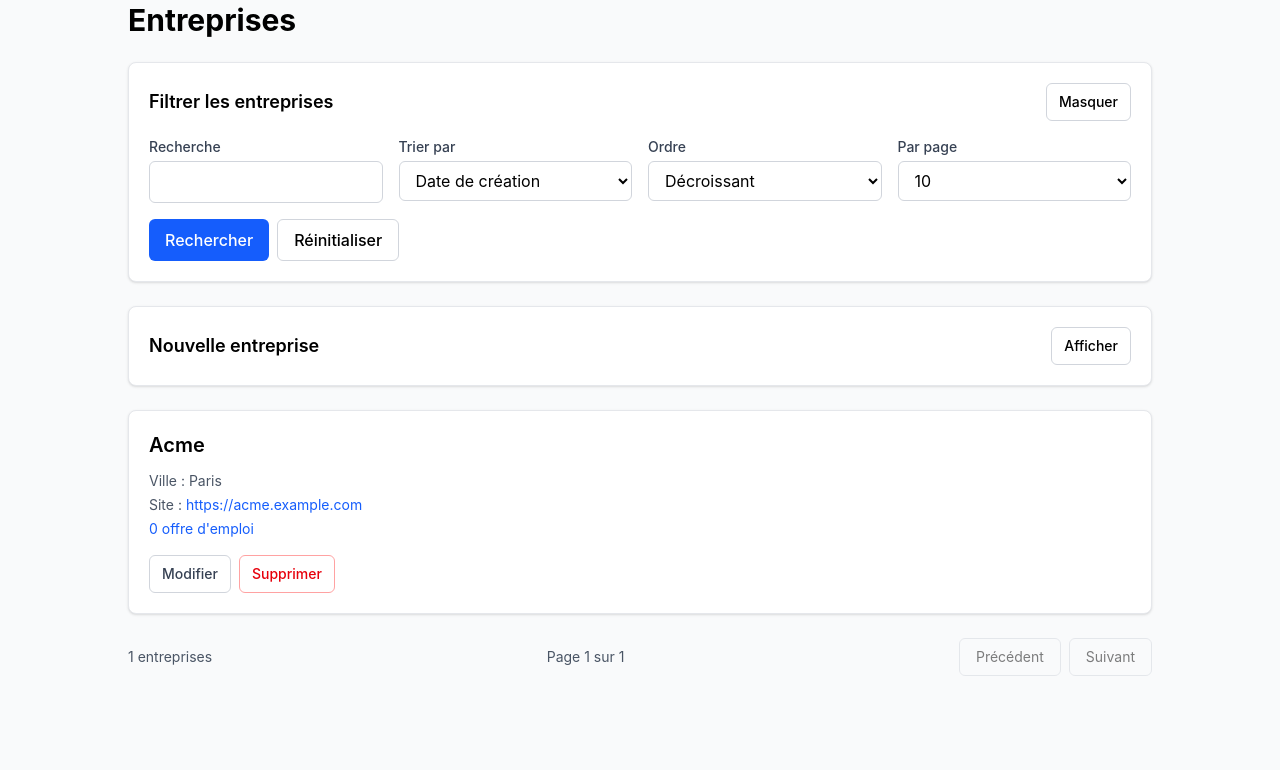
Test case: CompaniesPage › cancels editing without updating the company
The width and height of the screenshot is (1280, 770).
Click the button "Modifier".
click(190, 574)  # box [149,555,231,593]
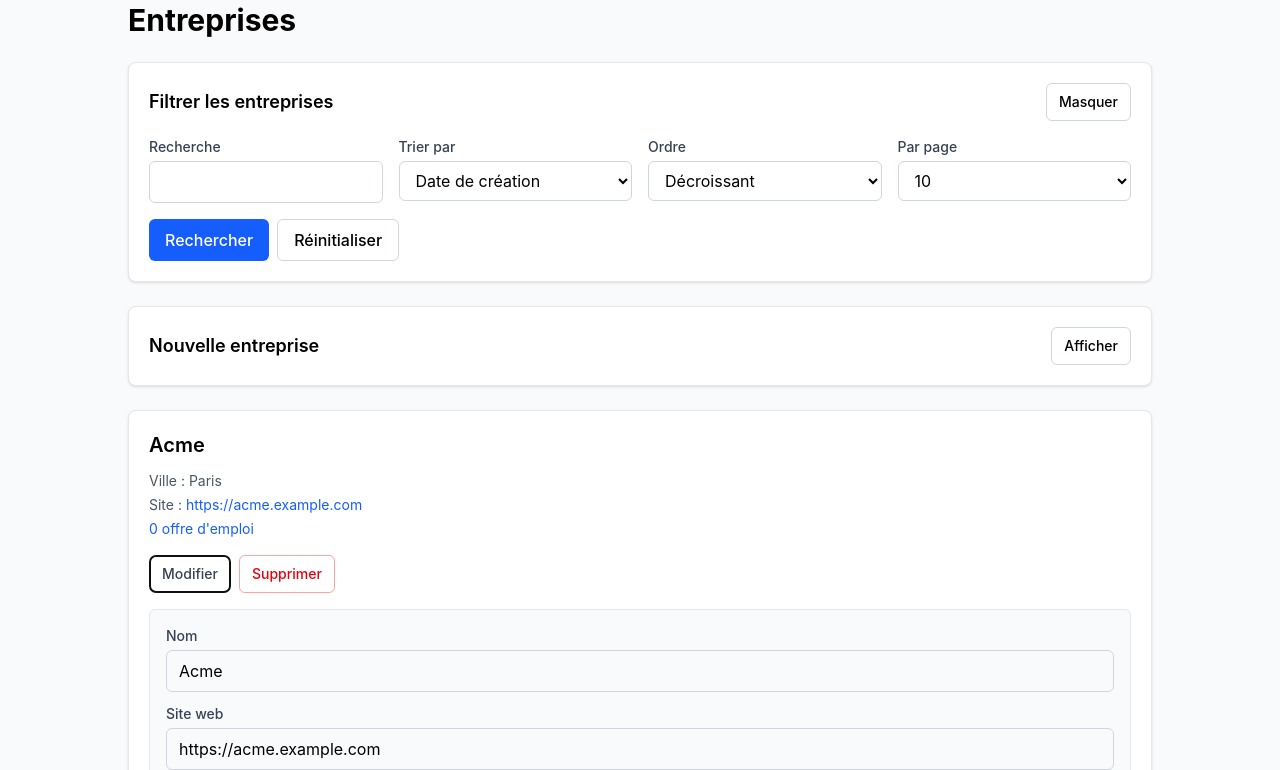
Replace the text in the field labelled "Nom" with "Nom temporaire" at (640, 671), box [166,650,1114,692]
(page scrolled)
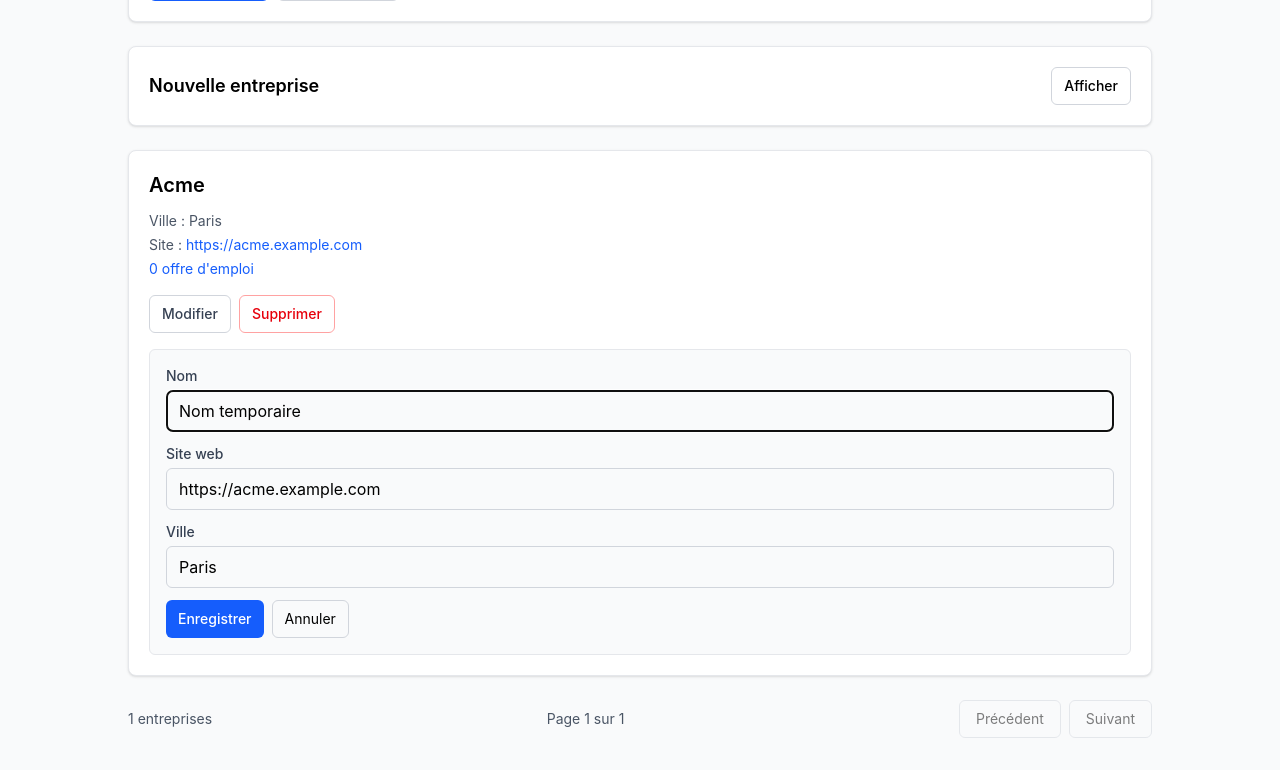
Click the button "Annuler".
click(310, 619)  # box [272,600,349,638]
(page scrolled)
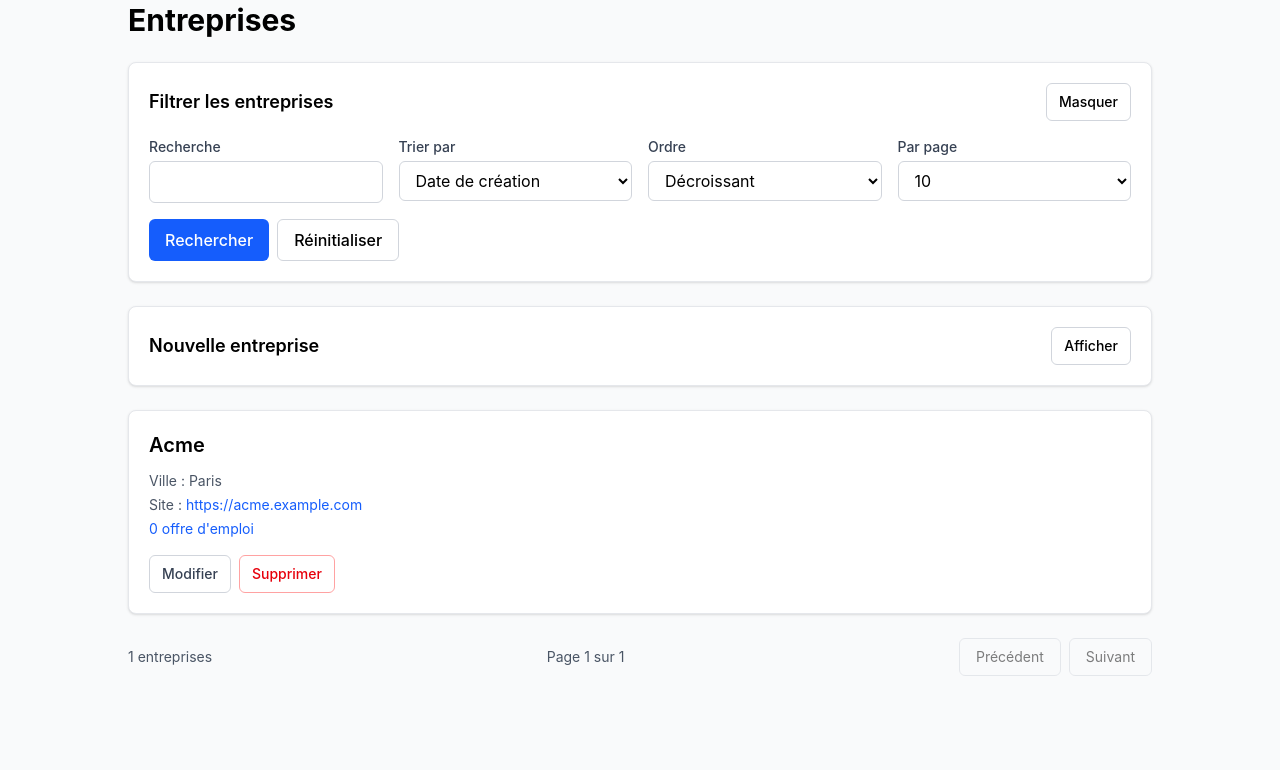
Check: the heading "Acme" is shown, box [149,433,205,457]
Check: the button "Annuler" is gone
